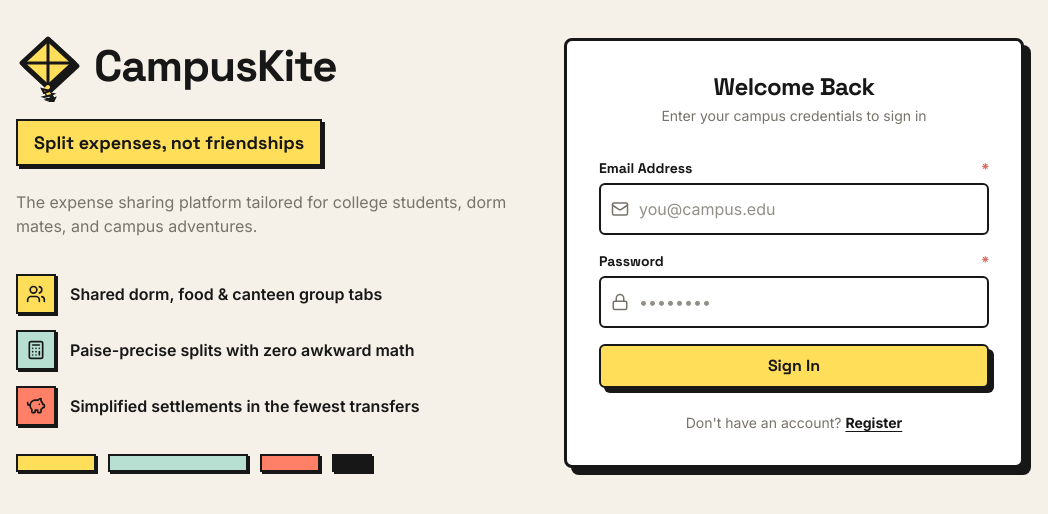
Test case: Layout and Authentication Components › TASK 5: Login Page › validates email and password on empty submit
The width and height of the screenshot is (1048, 514).
Step 1. Click the button "Sign In" → [794, 366], box [599,344,989,388]
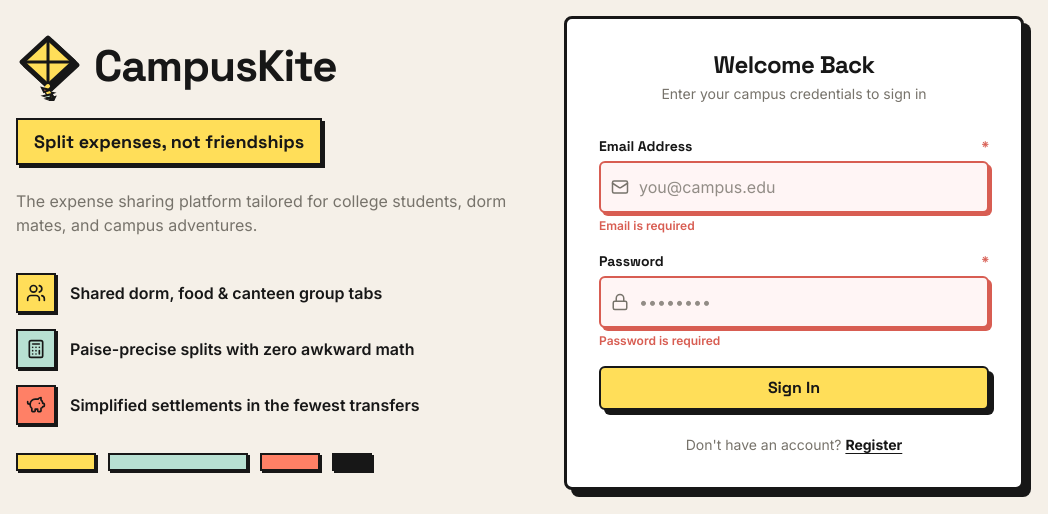
Expected: the text "Email is required" is shown, [599,218,695,233]
Expected: the text "Password is required" is shown, [599,333,720,348]
